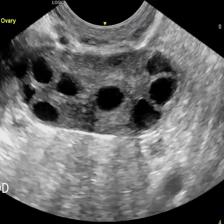pcos: (12, 37, 194, 154)
